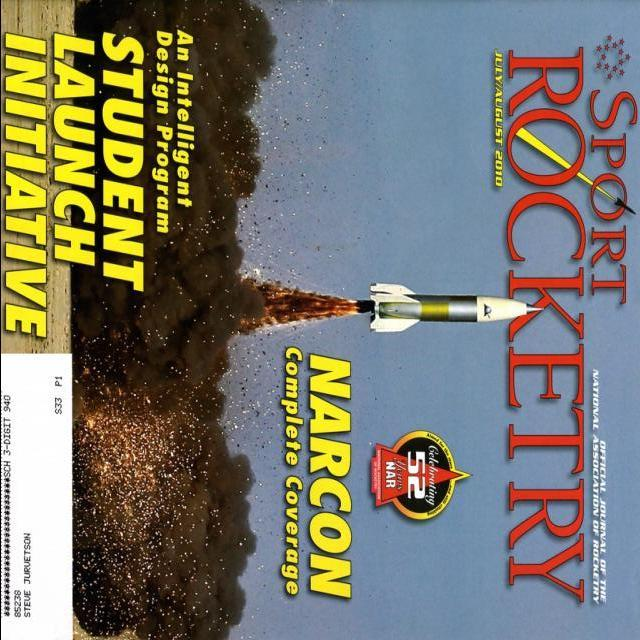Missile: (358, 291, 548, 324)
